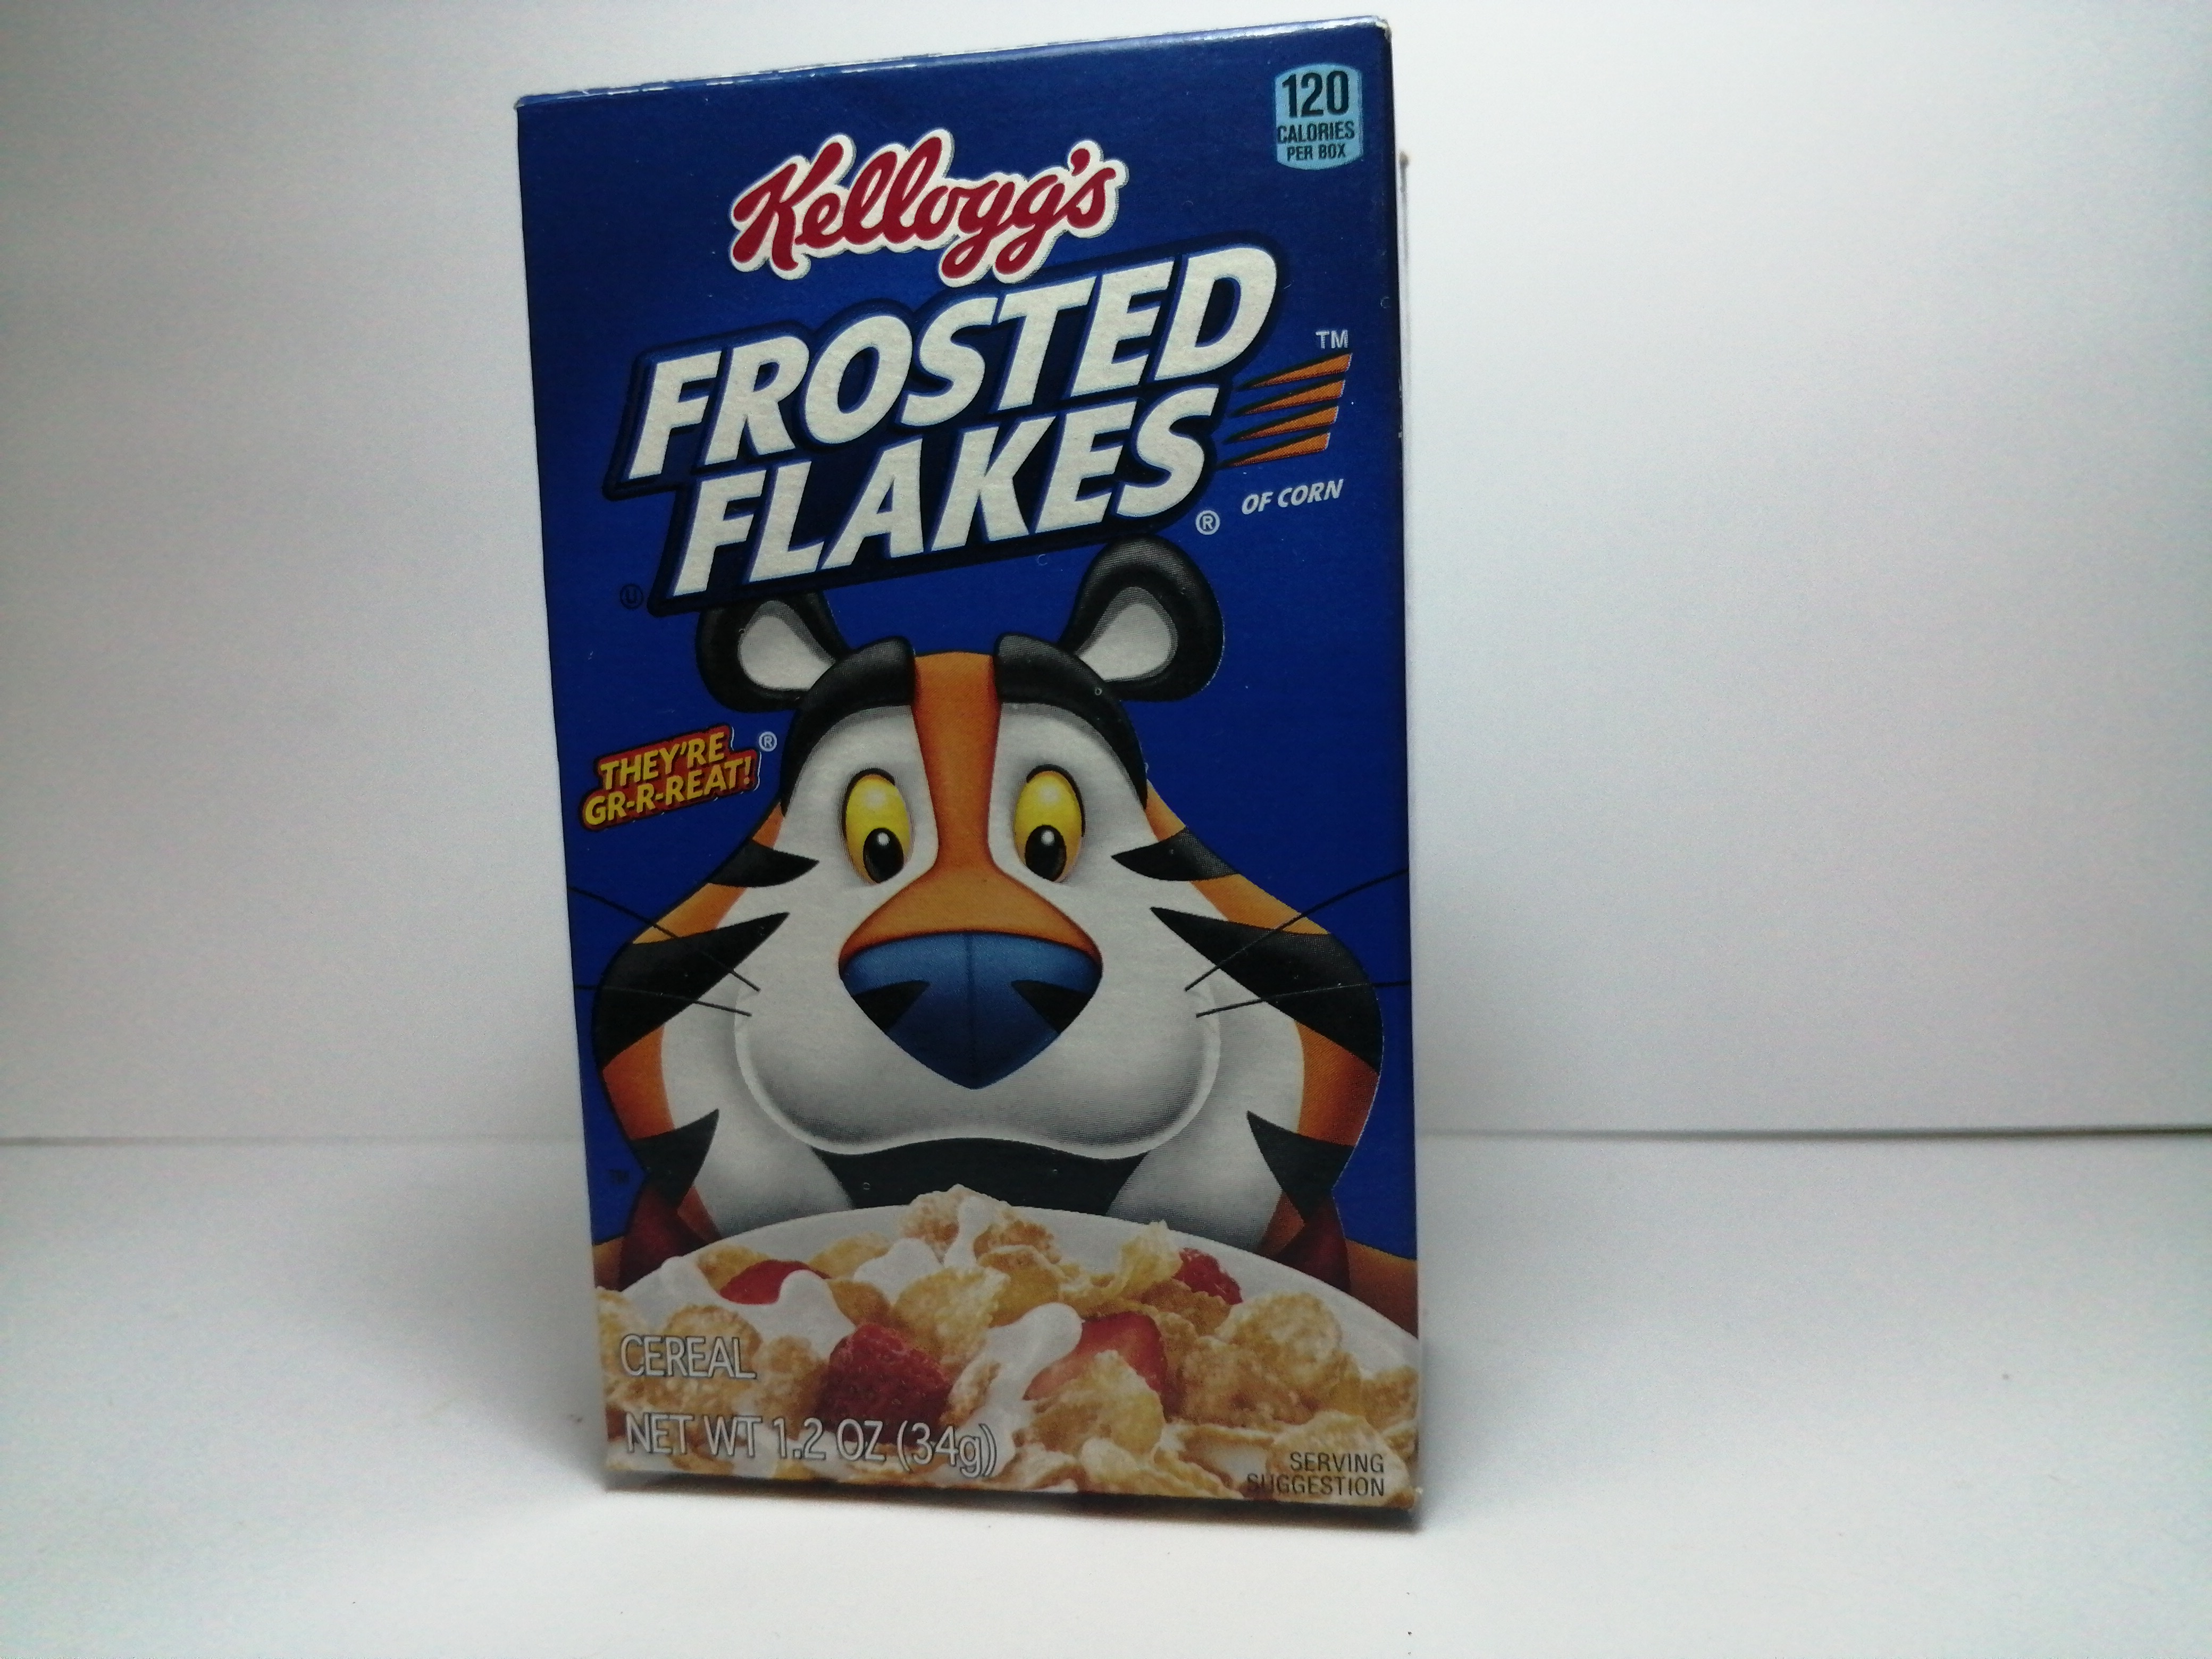cereal azucarado: (488, 10, 1487, 1547)
